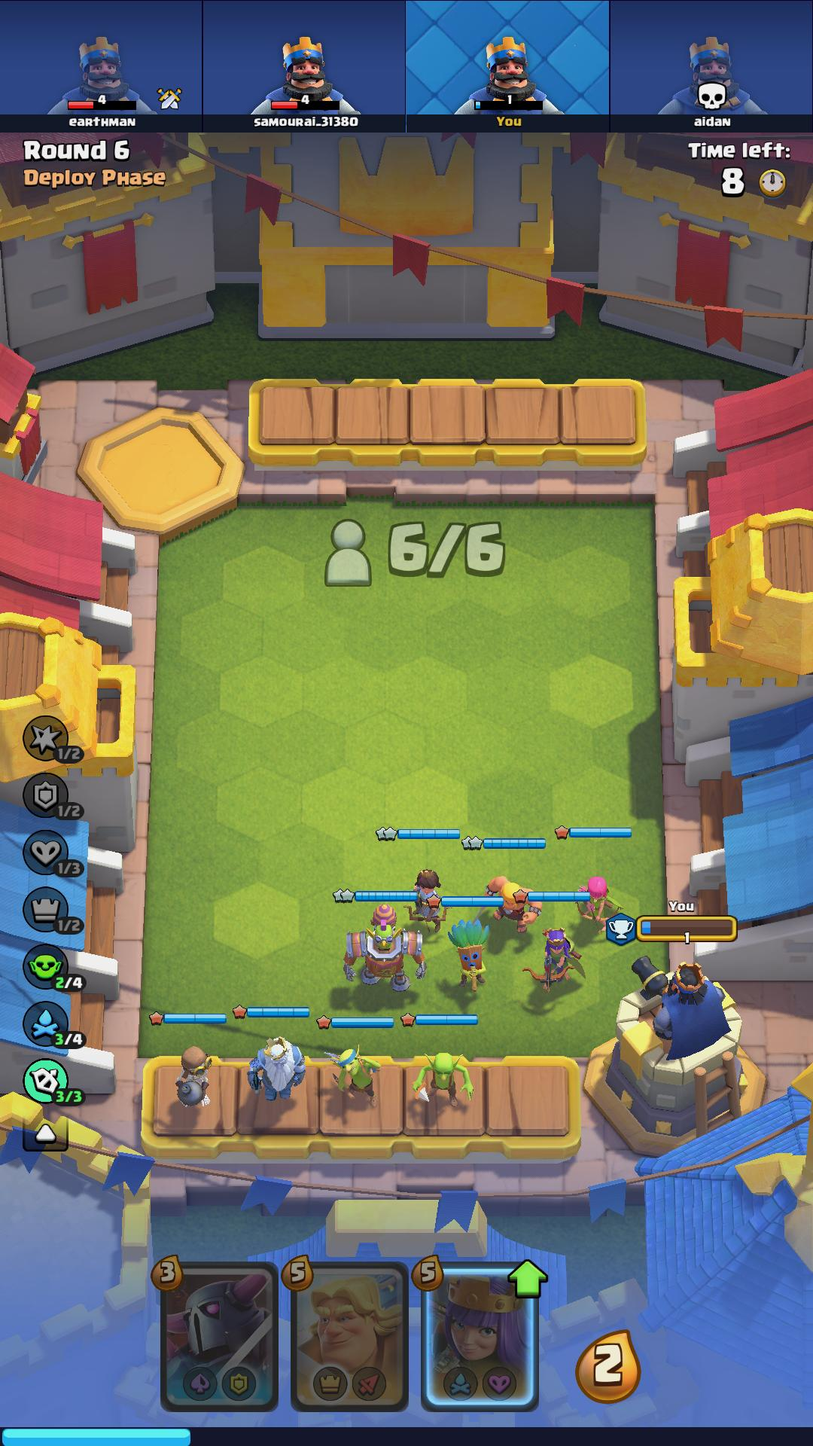archer: (579, 869, 624, 936)
barbarian: (479, 874, 544, 933)
bomber: (167, 1041, 219, 1108)
dart: (438, 912, 496, 995)
ghost: (246, 1028, 305, 1104)
goblin: (417, 1047, 475, 1111)
hand-golden: (295, 1261, 407, 1408)
hand-pekka: (161, 1263, 279, 1408)
hand-queen: (420, 1262, 541, 1408)
machine: (336, 903, 428, 995)
princess: (406, 866, 453, 930)
queen: (523, 925, 584, 1001)
spear: (323, 1044, 382, 1105)
upgrade: (508, 1258, 546, 1301)
